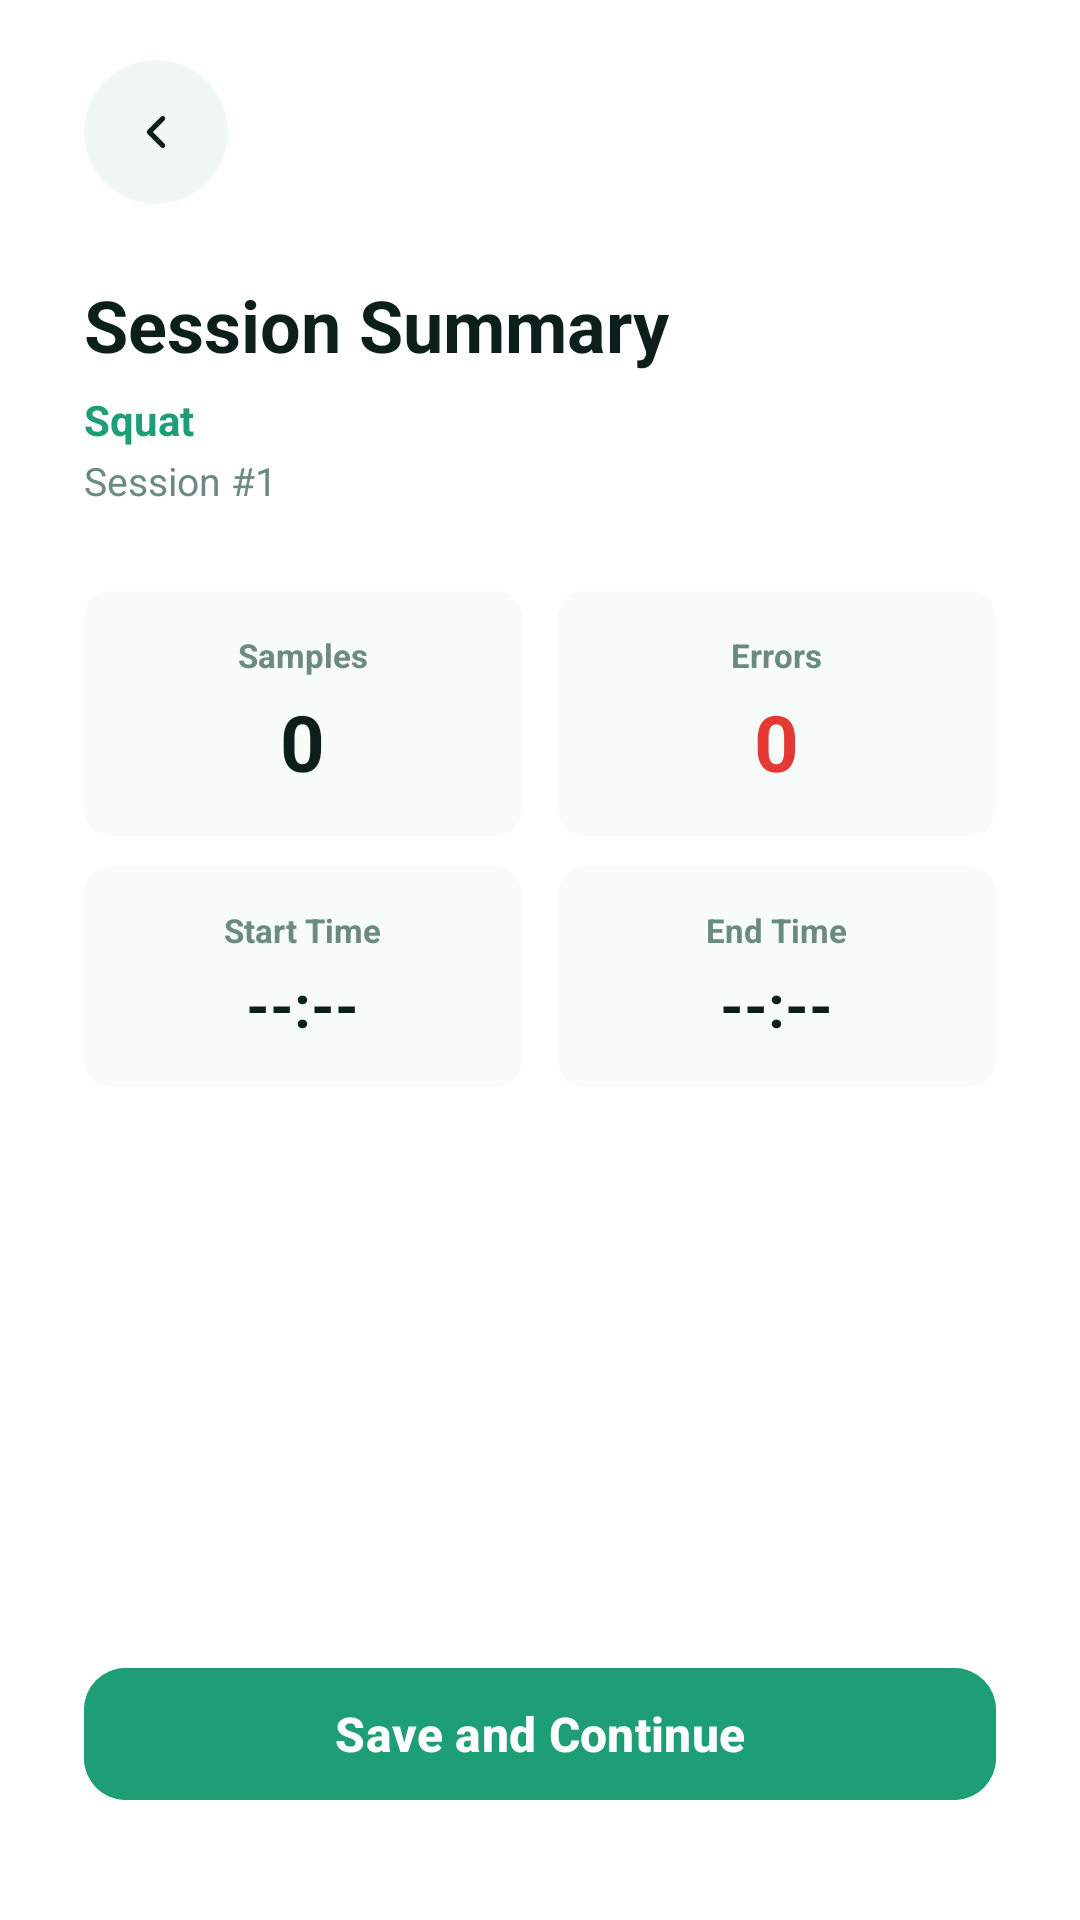

Icon bounding boxes for this 1080*1920 phone screenshot, format (x1, y1, x2, y2):
Back: (84, 60, 228, 204)
